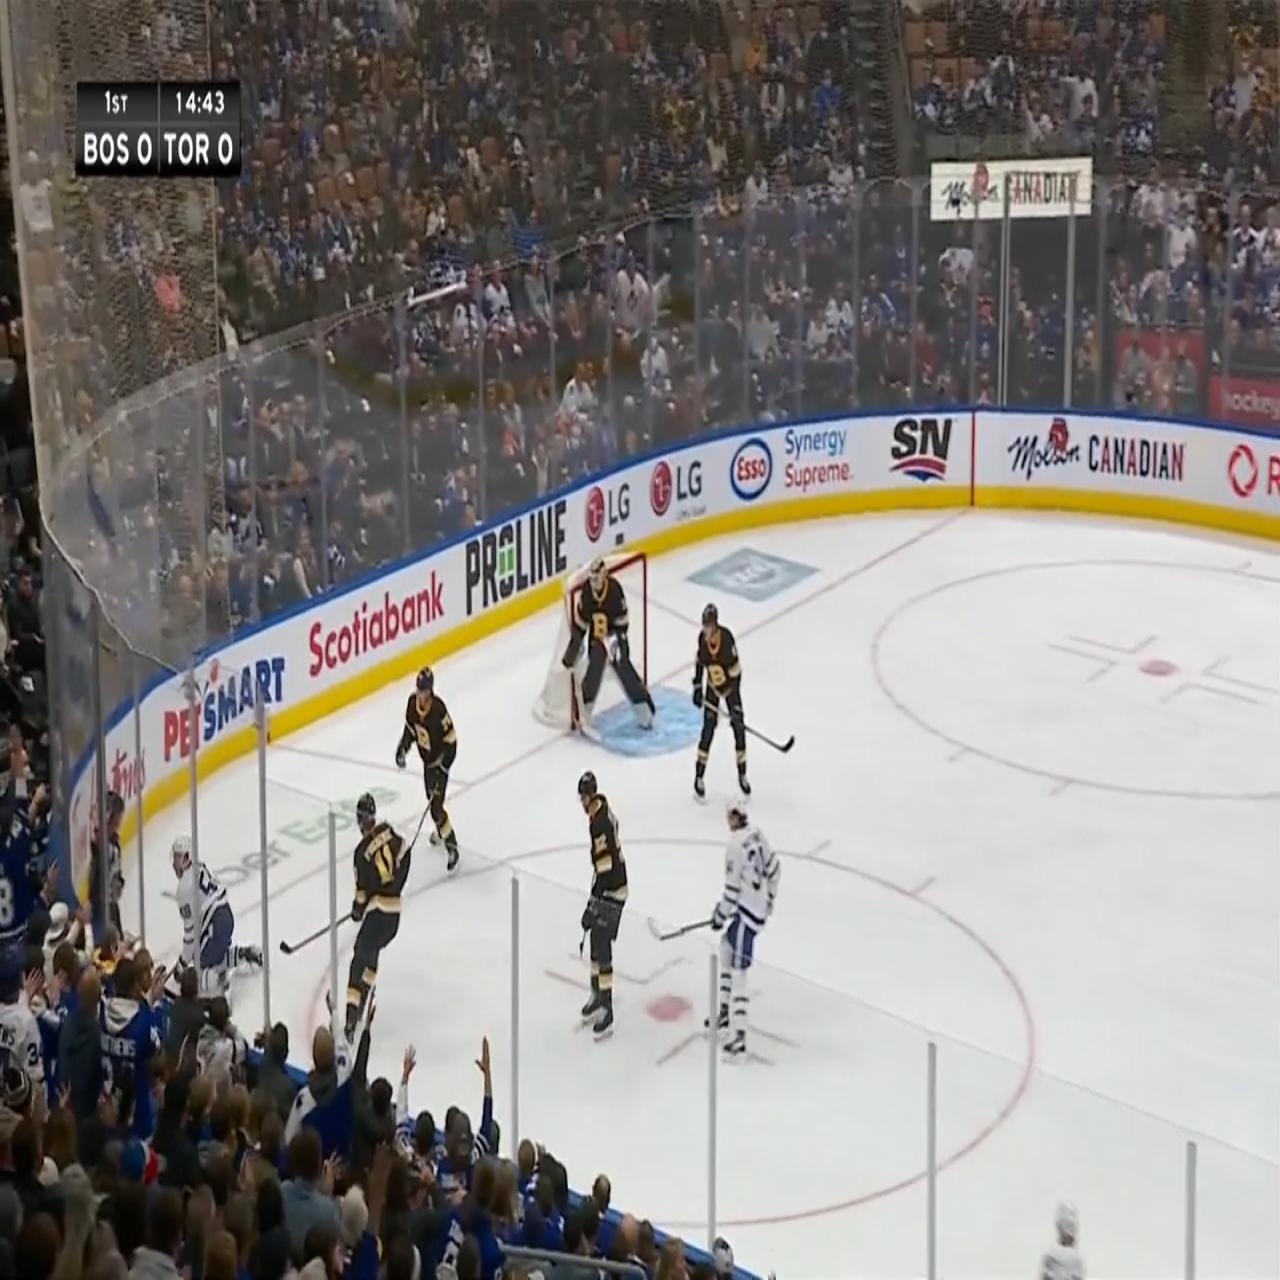Ad: (185, 772, 382, 935), (165, 620, 287, 787), (311, 555, 444, 699), (464, 481, 570, 612), (733, 416, 857, 524), (1009, 424, 1197, 491), (85, 717, 145, 896), (1219, 422, 1279, 532), (645, 436, 715, 529), (884, 412, 959, 490), (583, 458, 639, 557)
